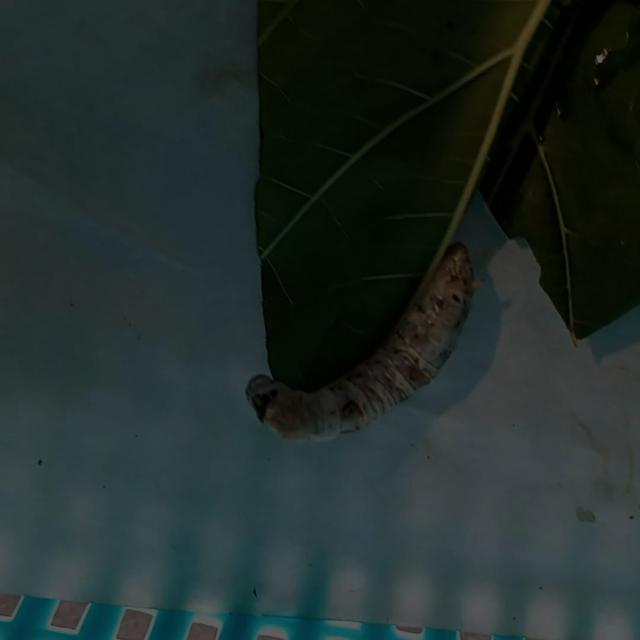Grasserie: (212, 217, 503, 458)
